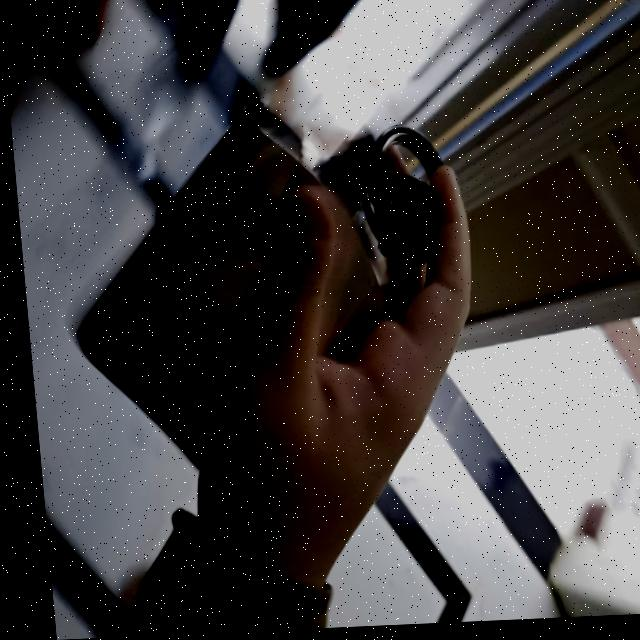Afnan: (54, 92, 463, 477)
